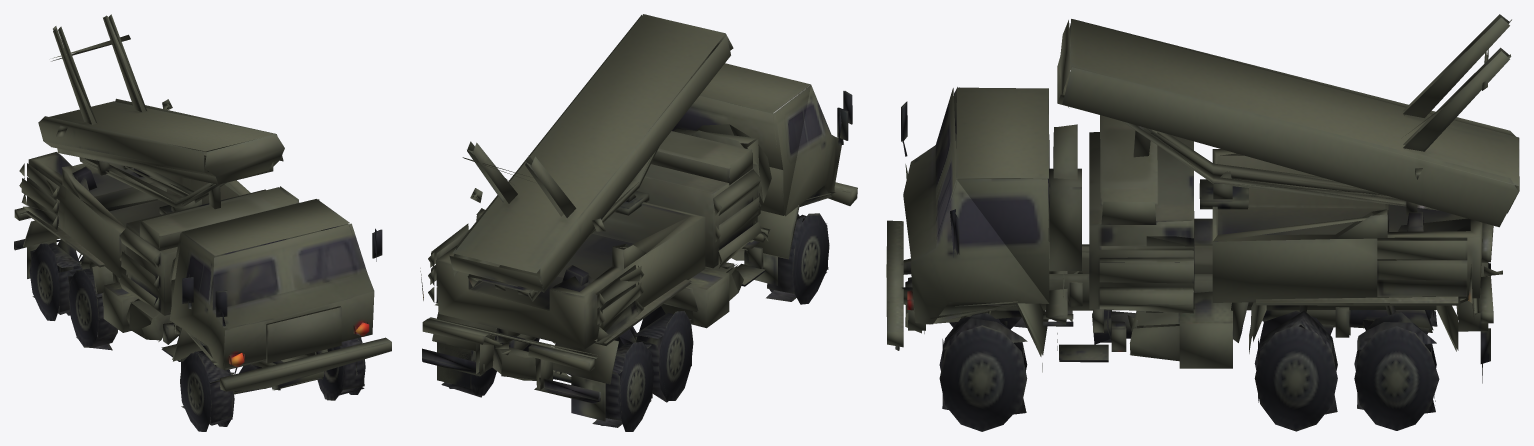
The model's file is ua-himars.glb.
3 renders of one model, left to right at view 1: azimuth 30°, elevation 25°; view 2: azimuth 150°, elevation 25°; view 3: azimuth 270°, elevation 25°, orthographic. The views are drawn at different scales.
Parts seen in each view (by area): view 1: ua-himars, turret; view 2: ua-himars, turret; view 3: ua-himars, turret.
Boxes of the visible parts, bbox=[...] form: ua-himars: bbox=[14, 152, 391, 431]; turret: bbox=[38, 14, 382, 319]; ua-himars: bbox=[420, 85, 857, 431]; turret: bbox=[449, 14, 852, 301]; ua-himars: bbox=[886, 89, 1502, 431]; turret: bbox=[901, 14, 1519, 303].
Size of the model in its own units: 0.516 by 0.63 by 1.03.
Materials: 2 (1 with a texture image).
